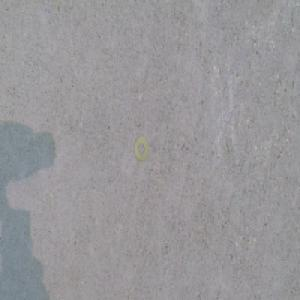Washer: (134, 134, 149, 160)
